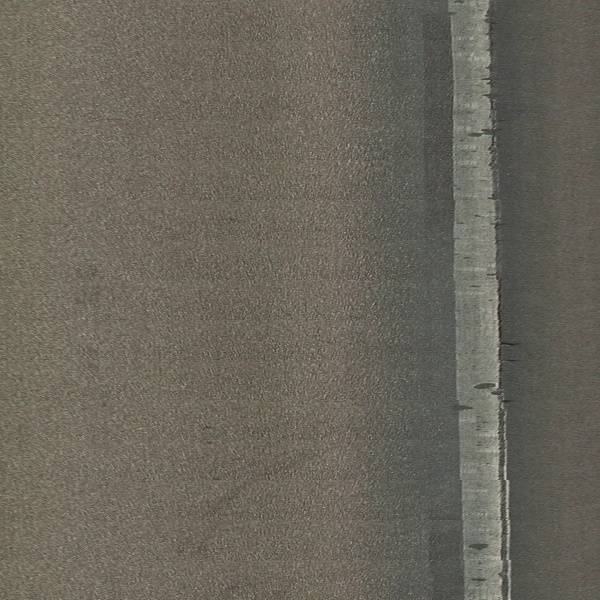road_damage: (473, 336, 530, 411)
